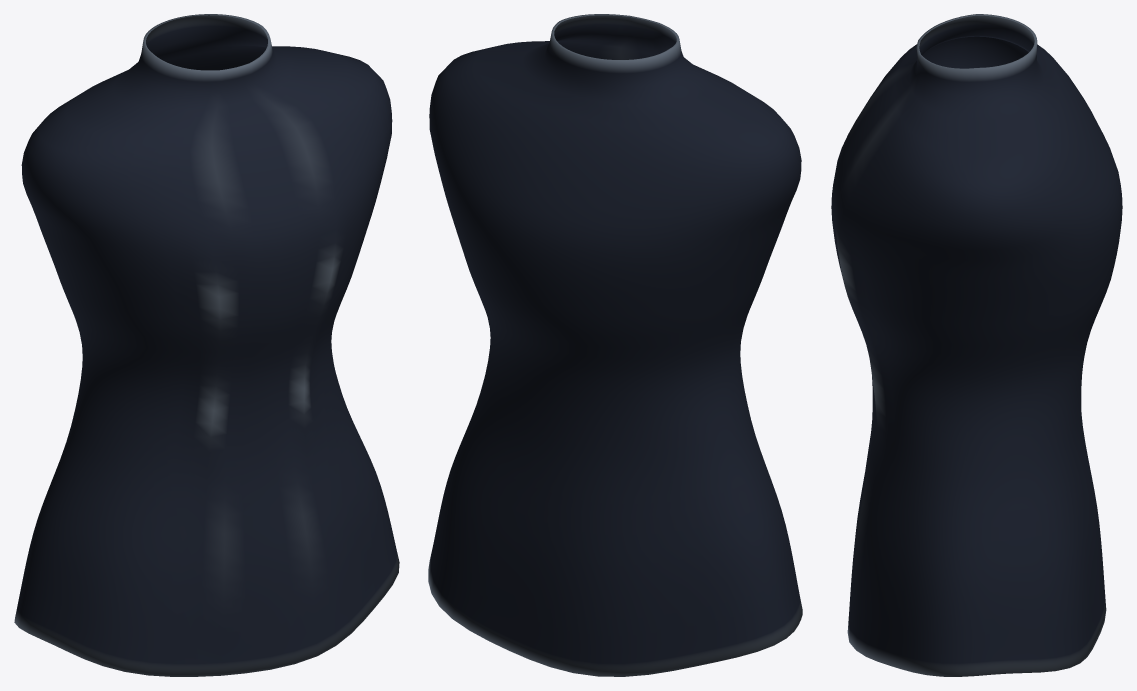
Rendered from mirage-attire-64a2e6b50083.glb.
The picture shows the model from 3 angles, left to right: view 1: azimuth 30°, elevation 25°; view 2: azimuth 150°, elevation 25°; view 3: azimuth 270°, elevation 25°; orthographic projection.
Parts seen in each view (by area): view 1: SM_Hero_mirage_TailoredCoat_A; view 2: SM_Hero_mirage_TailoredCoat_A; view 3: SM_Hero_mirage_TailoredCoat_A.
Part boxes in pixels (x1,y1,x2,y2): SM_Hero_mirage_TailoredCoat_A: (14, 14, 399, 676); SM_Hero_mirage_TailoredCoat_A: (428, 14, 802, 676); SM_Hero_mirage_TailoredCoat_A: (831, 14, 1122, 676).
Size of the model in its own units: 0.4093 by 0.6368 by 0.2893.
